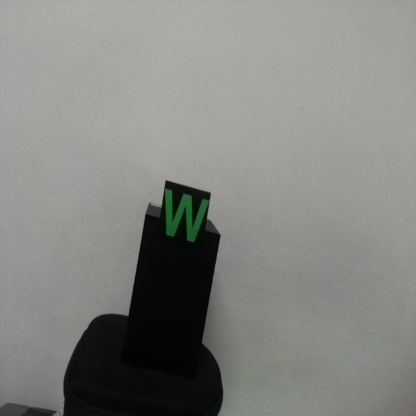id_12: (163, 183, 210, 253)
